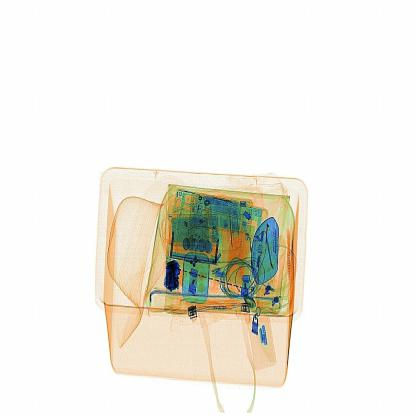scissors: (158, 254, 186, 300)
